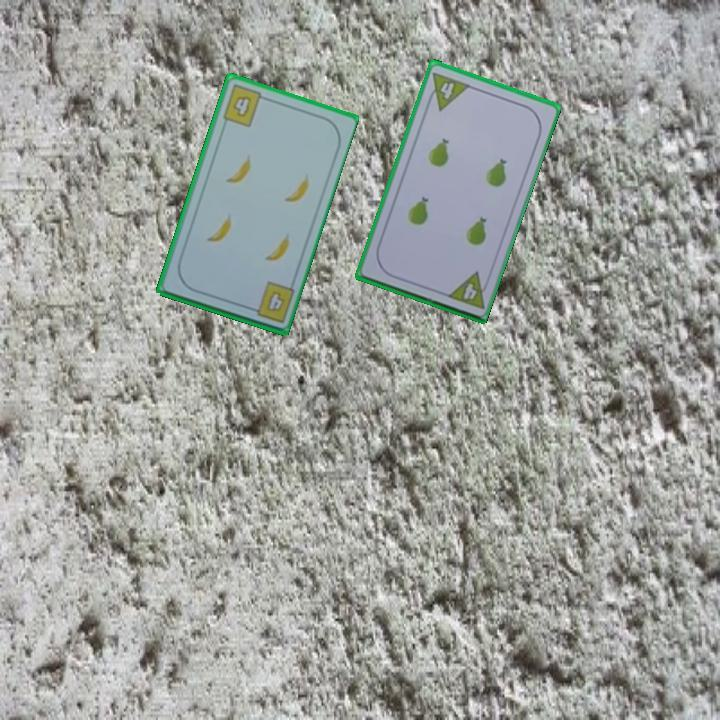4b: (244, 278, 297, 326), (219, 81, 270, 130)
4p: (422, 69, 473, 113), (443, 268, 493, 311)
